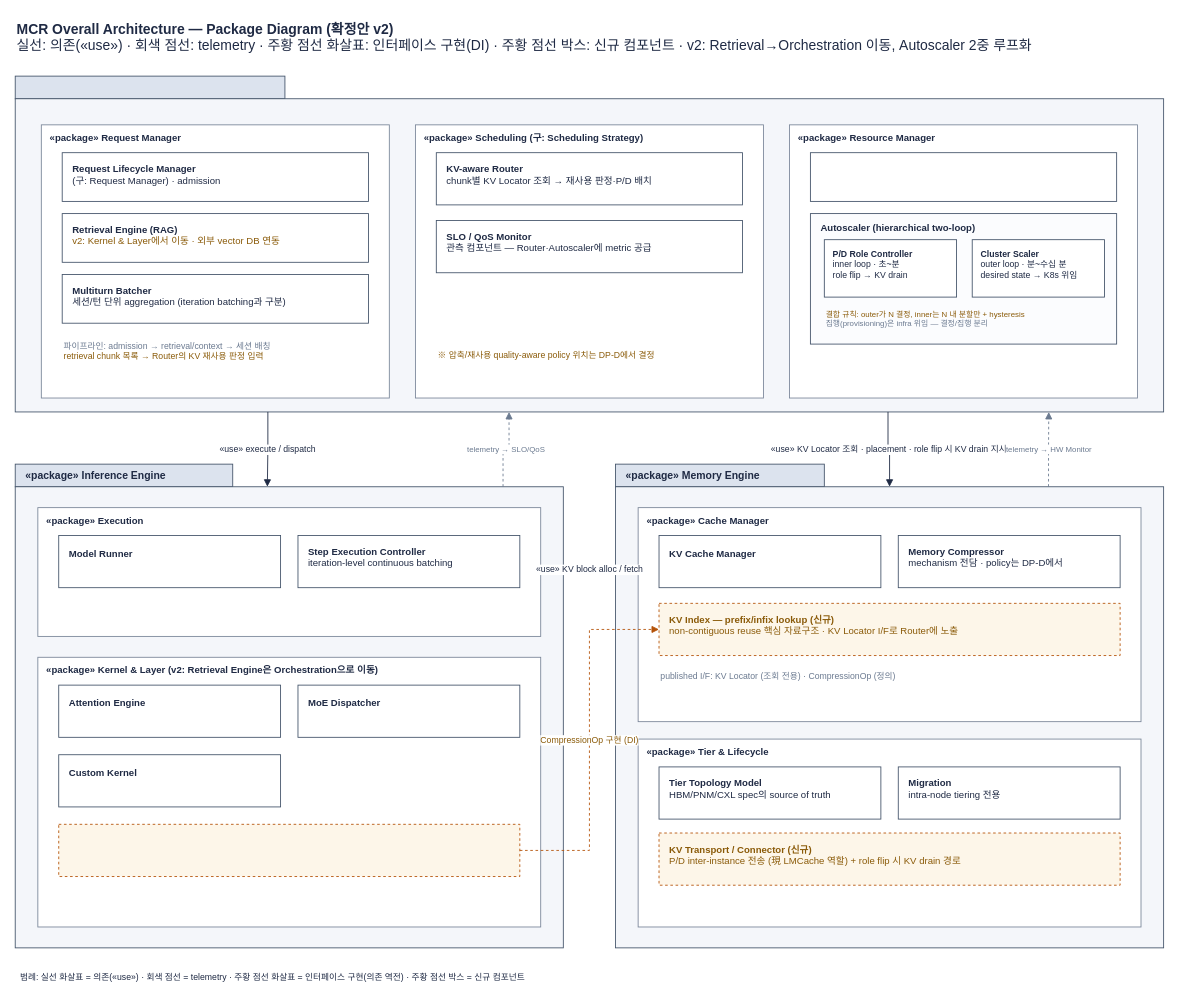
The diagram is 1179 pixels wide and 1004 high, and some of its shapes have lost their labels. The centre of each missing label's shape, as x and y in pixels:
"CompressionOp Kernel (신규) Memory Engine이 정의한 인터페이스를 구현 — 순환 의존 차단(DI)" belongs at pixel 289 850.
"Hardware Monitor Tier Topology Model의 실시간 상태와 연계" belongs at pixel 963 176.
"«package» Inference Orchestration" belongs at pixel 149 87.
